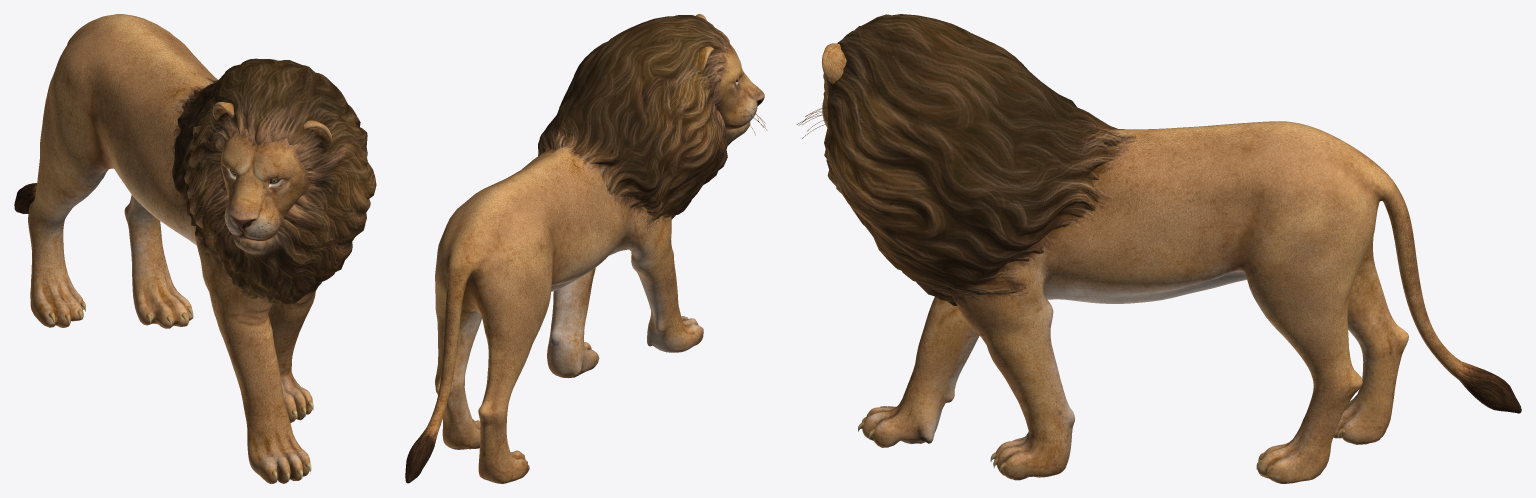
Rendered from lion.glb.
3 views of the same model, side by side, from view 1: azimuth 30°, elevation 25°; view 2: azimuth 150°, elevation 25°; view 3: azimuth 270°, elevation 25° (orthographic). The views are drawn at different scales.
Visible parts, largest first — view 1: node_id134; view 2: node_id134; view 3: node_id134.
Boxes of the visible parts, left/top/right/bottom form: node_id134: left=14, top=14, right=376, bottom=483; node_id134: left=405, top=14, right=767, bottom=483; node_id134: left=796, top=14, right=1521, bottom=483.
Bounding box in the file's own units: 0.2699 × 0.512 × 0.8005.
Materials: 1 (1 with a texture image).
